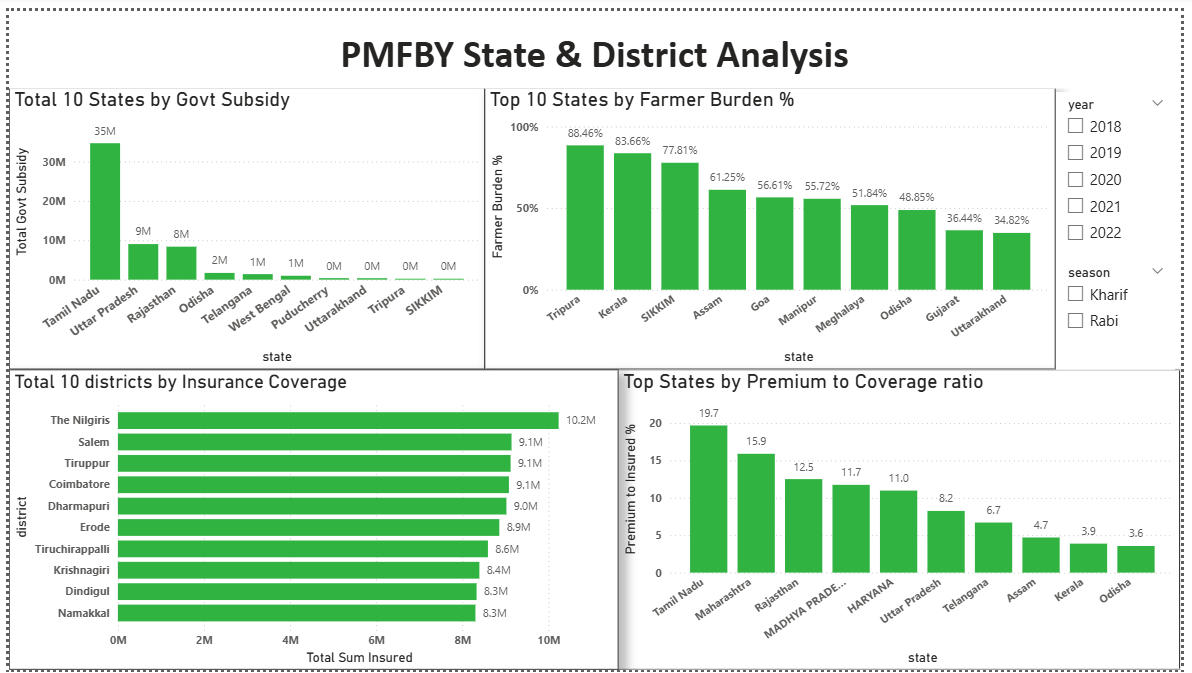

Layout of this report page (visuals, bound fields, positions):
{"tool":"powerbi","page":{"name":"State & District Analysis","canvas":[1280,720],"ordinal":2},"visuals":[{"type":"clusteredColumnChart","title":"Top 10 States by Govt Subsidy","fields":{"Category":["PMFBY_crop_insurance_analytics_dashboard.state"],"Y":["PMFBY_crop_insurance_analytics_dashboard.Total Govt Subsidy"]},"box":[0,84,520,308],"z":0},{"type":"clusteredColumnChart","title":"Top 10 States by Farmer Burden %","fields":{"Category":["PMFBY_crop_insurance_analytics_dashboard.state"],"Y":["PMFBY_crop_insurance_analytics_dashboard.Farmer Burden %"]},"box":[520,84,624,308],"z":1000},{"type":"clusteredColumnChart","title":"Top States by Premium to Coverage ratio","fields":{"Category":["PMFBY_crop_insurance_analytics_dashboard.state"],"Y":["PMFBY_crop_insurance_analytics_dashboard.Premium to Insured %"]},"box":[666,392,614,328],"z":2000},{"type":"clusteredBarChart","title":"Top 10 districts by Insurance Coverage","fields":{"Category":["PMFBY_crop_insurance_analytics_dashboard.district"],"Y":["PMFBY_crop_insurance_analytics_dashboard.Total Sum Insured"]},"box":[0,392,666,328],"z":3000},{"type":"slicer","fields":{"Values":["PMFBY_crop_insurance_analytics_dashboard.year"]},"box":[1144,88,130,184],"z":4000},{"type":"slicer","fields":{"Values":["PMFBY_crop_insurance_analytics_dashboard.season"]},"box":[1144,272,130,120],"z":5000},{"type":"textbox","box":[0,14,1280,70],"z":6000}]}

Visuals, with their boxes in screenshot pixels (x1, y1, x2, y2), scaled from the page's 1280x720 canvas onto the 1192x673 screenshot:
"Top 10 States by Govt Subsidy" clusteredColumnChart: <box>0,79,484,366</box>
"Top 10 States by Farmer Burden %" clusteredColumnChart: <box>484,79,1065,366</box>
"Top States by Premium to Coverage ratio" clusteredColumnChart: <box>620,366,1191,672</box>
"Top 10 districts by Insurance Coverage" clusteredBarChart: <box>0,366,620,672</box>
slicer - PMFBY_crop_insurance_analytics_dashboard.year: <box>1065,82,1186,254</box>
slicer - PMFBY_crop_insurance_analytics_dashboard.season: <box>1065,254,1186,366</box>
textbox: <box>0,13,1191,79</box>
